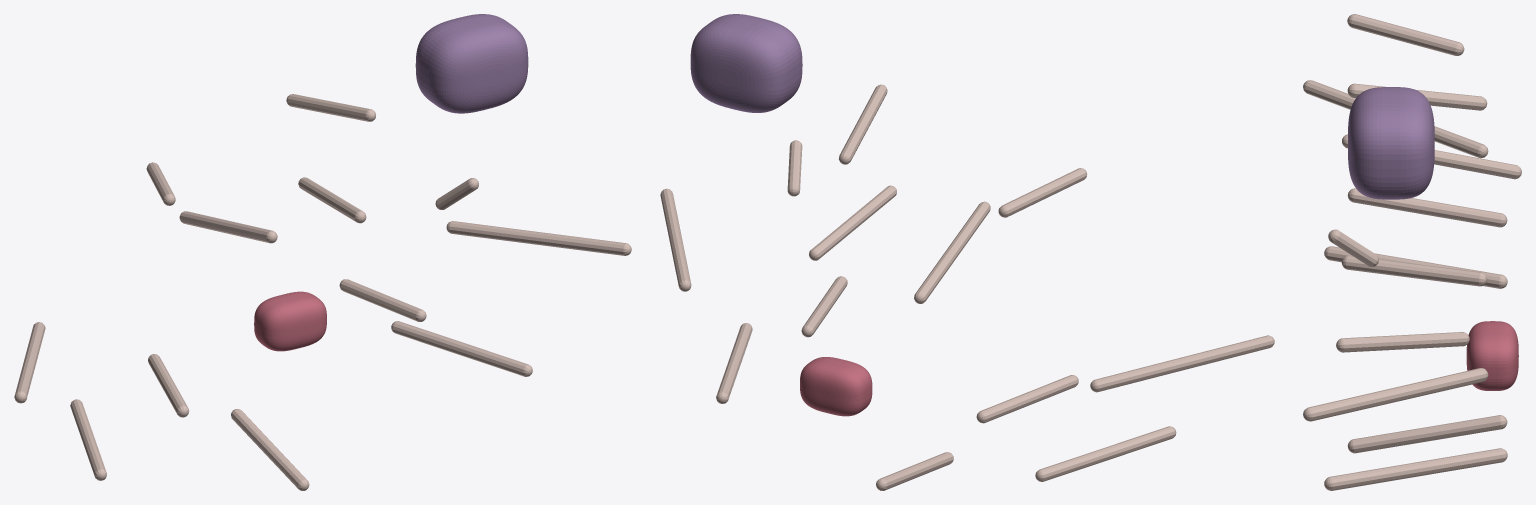
Rendered from dranmar_patient_pathology_debug.glb.
3 renders of one model, left to right at view 1: azimuth 30°, elevation 25°; view 2: azimuth 150°, elevation 25°; view 3: azimuth 270°, elevation 25°, orthographic. The views are drawn at different scales.
Visible parts, largest first — view 1: adhesions, liver_tumor, bowel_lesion; view 2: adhesions, liver_tumor, bowel_lesion; view 3: adhesions, liver_tumor, bowel_lesion.
Part boxes in pixels (box(x1,y1,x2,y2)): adhesions: box(14, 94, 631, 490); liver_tumor: box(415, 14, 528, 113); bowel_lesion: box(254, 291, 326, 351); adhesions: box(660, 84, 1274, 490); liver_tumor: box(690, 14, 802, 112); bowel_lesion: box(800, 357, 872, 416); adhesions: box(1303, 14, 1521, 490); liver_tumor: box(1348, 87, 1434, 199); bowel_lesion: box(1466, 321, 1518, 390).
Size of the model in its own units: 0.2721 by 0.1731 by 0.0755.
